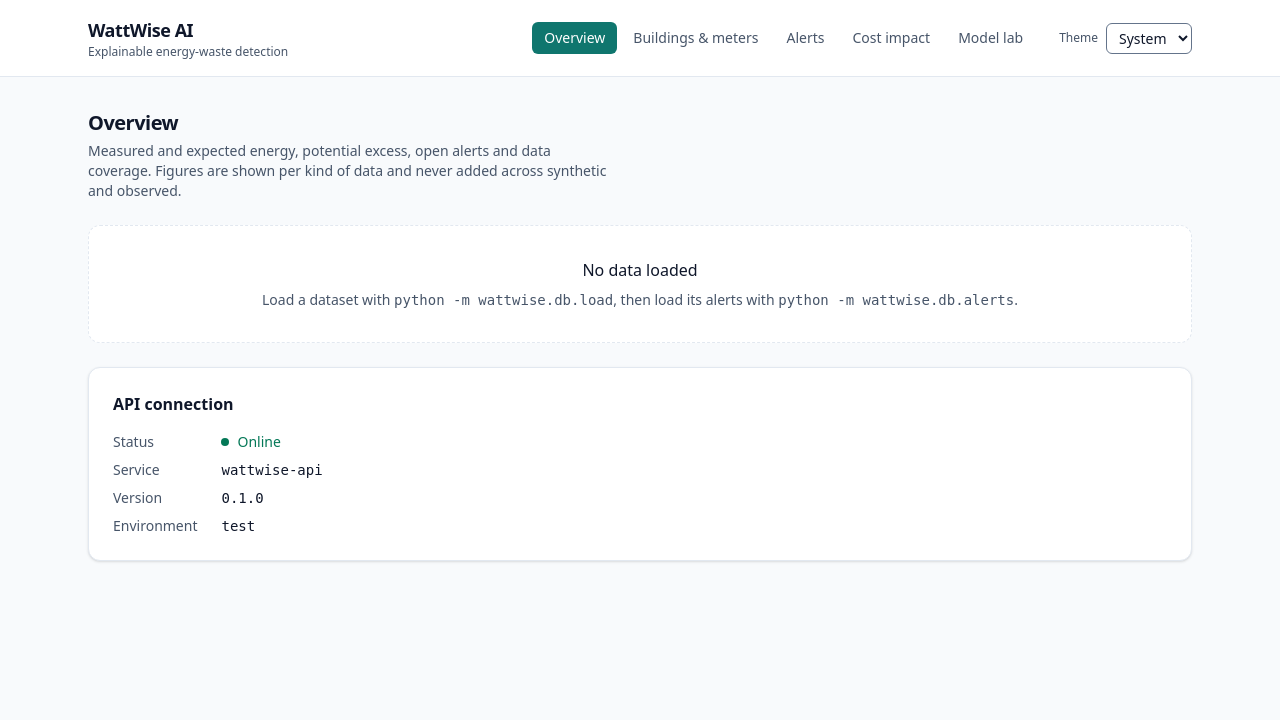
Test: App shell › navigates between pages without a reload and marks the current one
The width and height of the screenshot is (1280, 720).
Click the link "Alerts" at (806, 38), box [786,28,824,47]
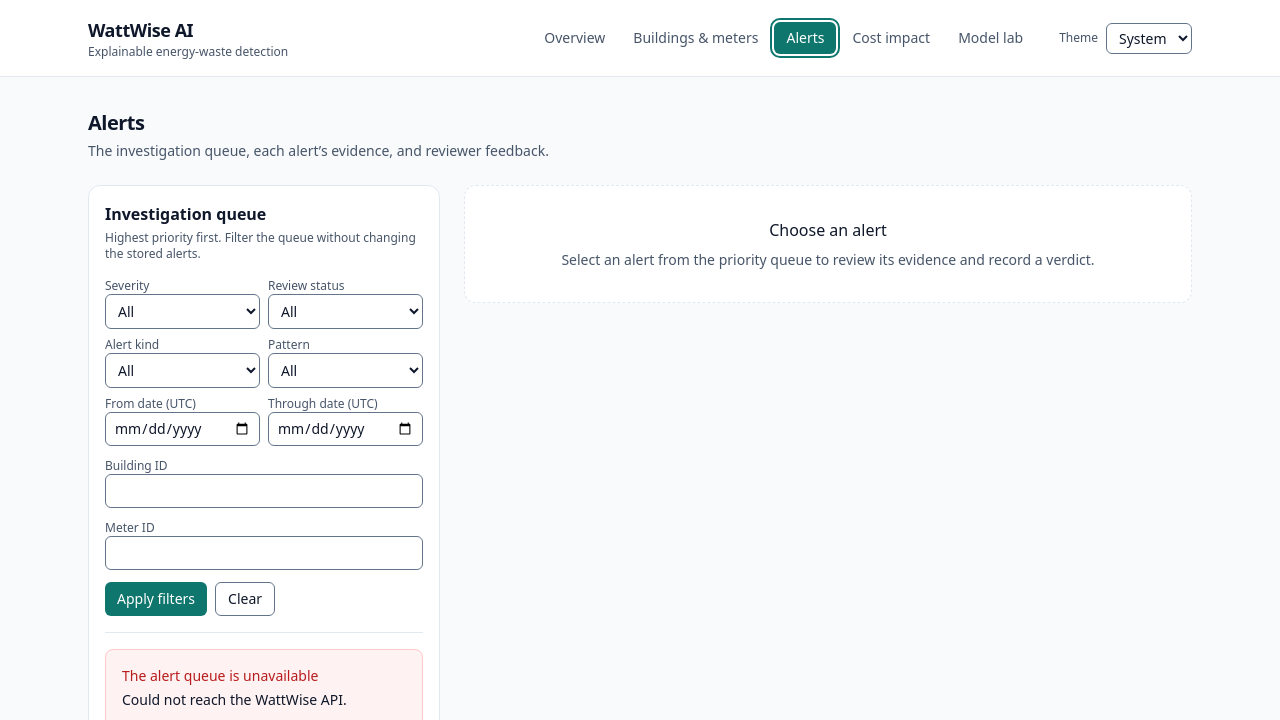
Expected: the link "Alerts" is shown, [774,22,836,54]
Now the heading "Alerts" is shown, box [88,109,144,136]
